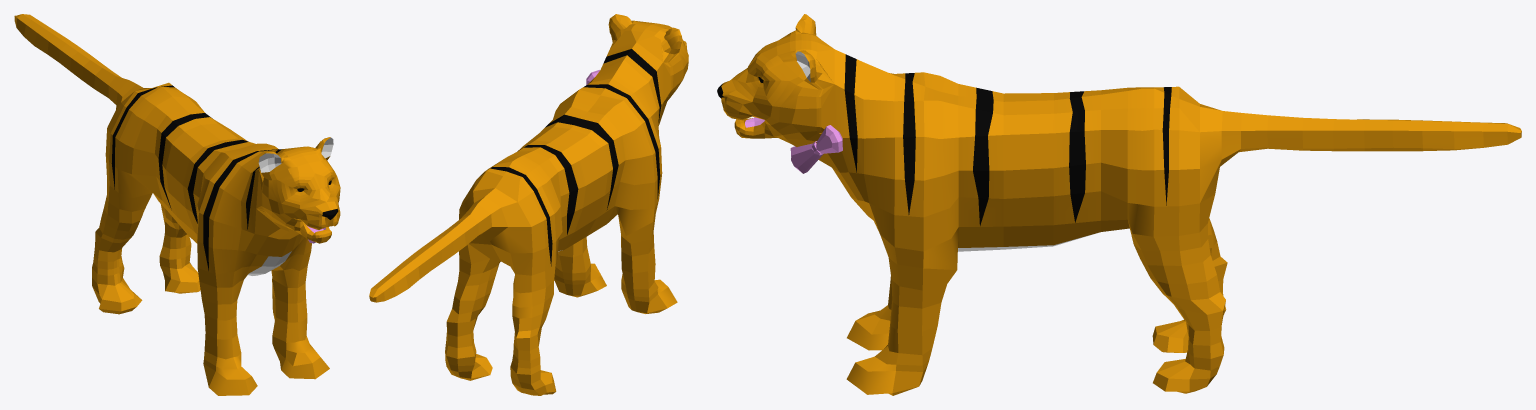
File: Tiger with Bow.fbx
3 renders of one model, left to right at view 1: azimuth 30°, elevation 25°; view 2: azimuth 150°, elevation 25°; view 3: azimuth 270°, elevation 25°, orthographic. The views are drawn at different scales.
Visible parts, largest first — view 1: pCube4; view 2: pCube4; view 3: pCube4.
Boxes of the visible parts, x1=… form: pCube4: x1=14, y1=14, x2=340, y2=395; pCube4: x1=369, y1=14, x2=688, y2=395; pCube4: x1=717, y1=14, x2=1521, y2=395.
Bounding box in the file's own units: 5.12 × 11.44 × 24.97.
